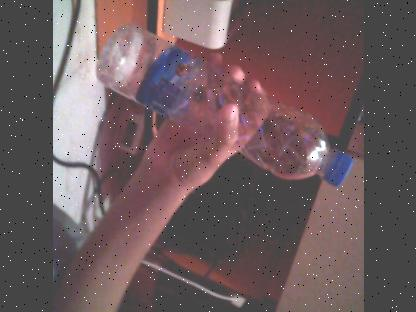Plastic Bottle: (104, 29, 356, 198)
